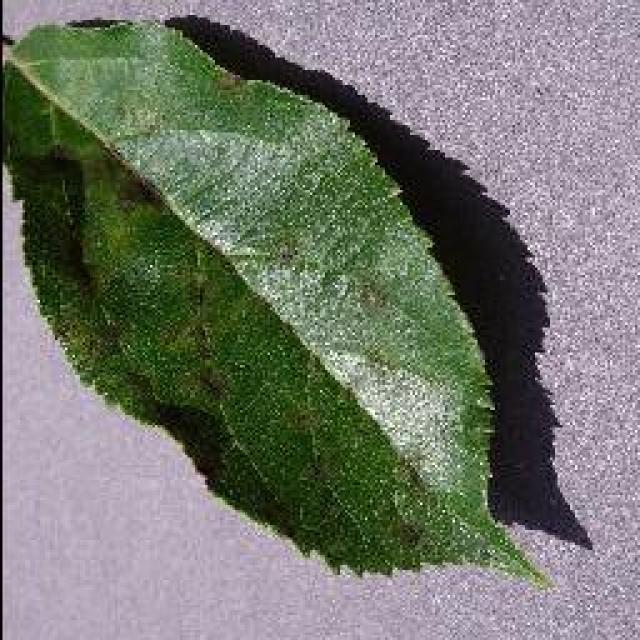apple scab disease: (2, 15, 558, 590)
